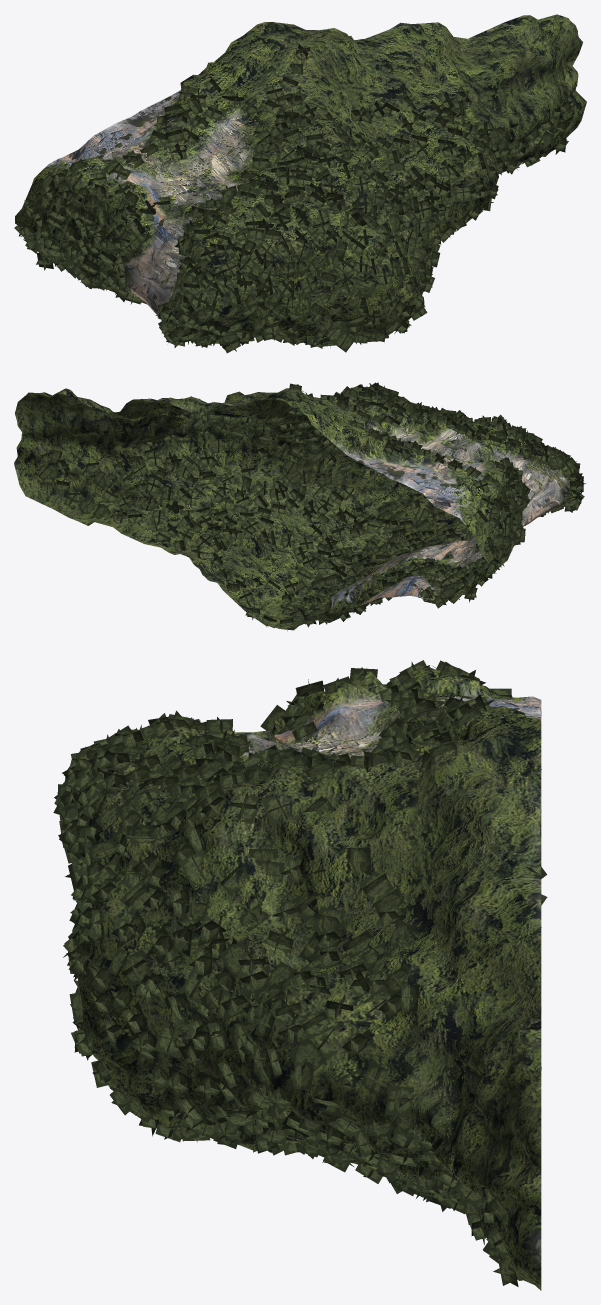
The model's file is hd_out_AS_005_GuilinMountains_05.fbx.
3 renders of one model, top to bottom at view 1: azimuth 30°, elevation 25°; view 2: azimuth 150°, elevation 25°; view 3: azimuth 270°, elevation 25°, orthographic. The views are drawn at different scales.
Parts seen in each view (by area): view 1: set_0_group_1, set_0_group_0.001; view 2: set_0_group_1, set_0_group_0.001; view 3: set_0_group_1, set_0_group_0.001.
Part boxes in pixels (x1,y1,x2,y2): set_0_group_1: (15, 14, 586, 340); set_0_group_0.001: (14, 44, 575, 353); set_0_group_1: (14, 386, 577, 630); set_0_group_0.001: (37, 382, 586, 630); set_0_group_1: (69, 667, 541, 1290); set_0_group_0.001: (53, 660, 547, 1286).
Bounding box in the file's own units: 6308 × 2988 × 2822.
2 materials, 2 textured.
